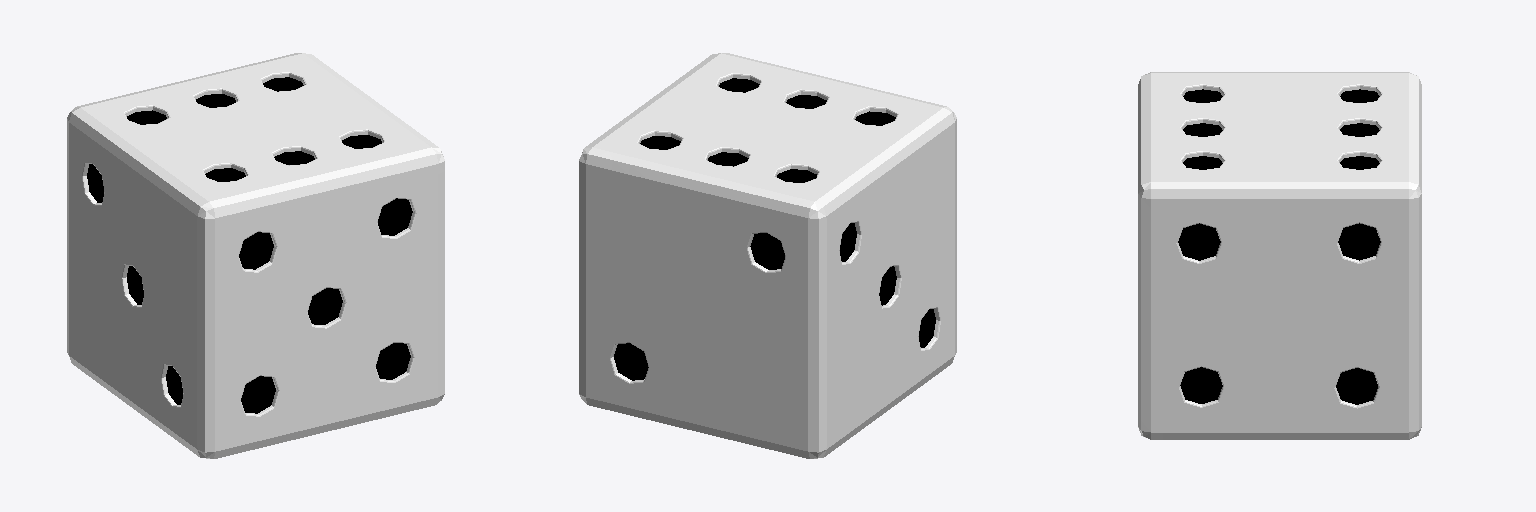
Rendered from dice.obj.
3 views of the same model, side by side, from view 1: azimuth 30°, elevation 25°; view 2: azimuth 150°, elevation 25°; view 3: azimuth 270°, elevation 25° (orthographic).
Visible parts, largest first — view 1: Object.1; view 2: Object.1; view 3: Object.1.
Boxes of the visible parts, box(x1,y1,x2,y2) form: Object.1: box(67, 53, 444, 458); Object.1: box(579, 53, 956, 458); Object.1: box(1138, 72, 1421, 439).
Bounding box in the file's own units: 1 × 1 × 1.